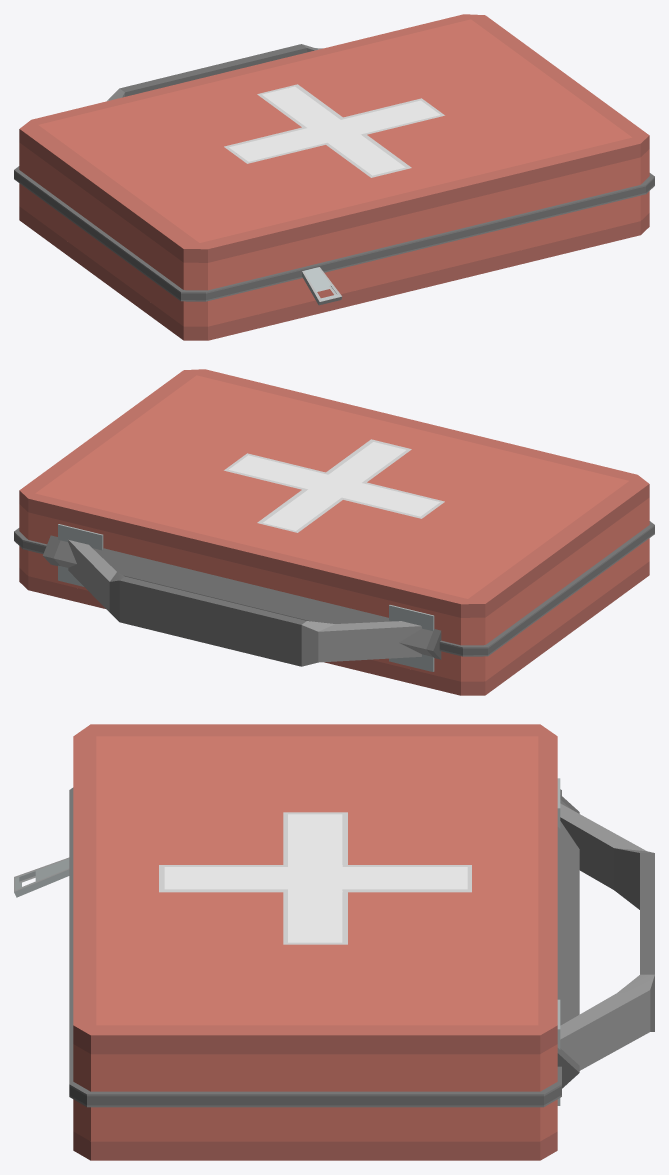
The model's file is smallmed.glb.
3 views of the same model, one above another, from view 1: azimuth 30°, elevation 25°; view 2: azimuth 150°, elevation 25°; view 3: azimuth 270°, elevation 25° (orthographic). The views are drawn at different scales.
Visible parts, largest first — view 1: _MeshInstance3D_311; view 2: _MeshInstance3D_311; view 3: _MeshInstance3D_311.
Part boxes in pixels (bbox=[...]): _MeshInstance3D_311: bbox=[14, 14, 654, 340]; _MeshInstance3D_311: bbox=[14, 369, 654, 695]; _MeshInstance3D_311: bbox=[14, 724, 654, 1160].
Size of the model in its own units: 0.36 by 0.0686 by 0.308.
